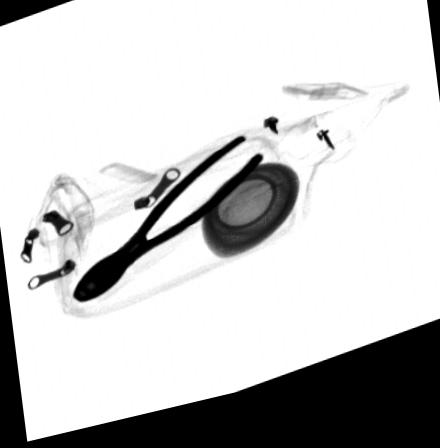Pliers: (69, 144, 262, 307)
